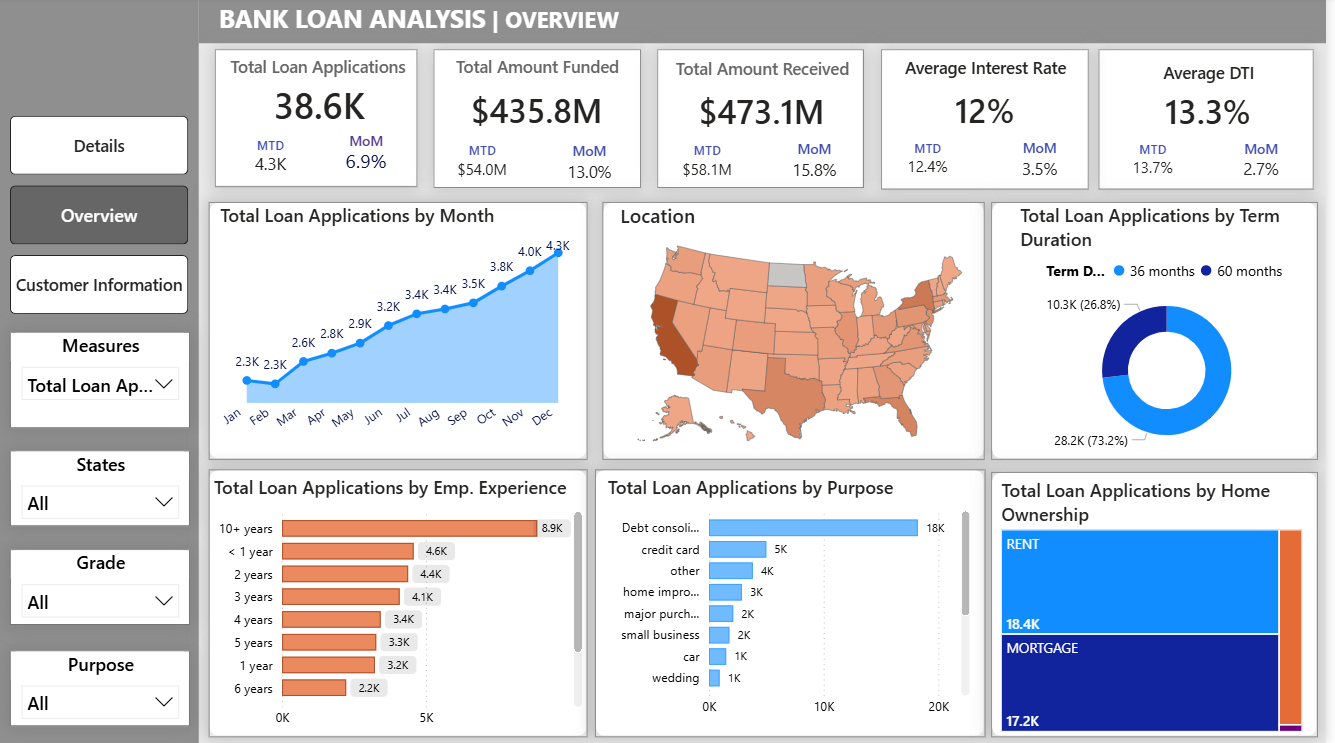

The dashboard page shown, as its layout file describes it:
{"tool":"powerbi","page":{"name":"Overview","canvas":[1280,720],"ordinal":1},"visuals":[{"type":"shape","box":[191.8,0,1088.2,44.6],"z":0},{"type":"textbox","box":[216,50.7,181.8,35.8],"z":0,"group":"g1"},{"type":"textbox","box":[423,50.7,190.6,38.1],"z":0,"group":"g2"},{"type":"textbox","box":[851.2,51.9,199,37],"z":0,"group":"g4"},{"type":"textbox","box":[640.1,53.1,190.6,37],"z":0,"group":"g3"},{"type":"textbox","box":[1069.6,56.7,193,35.3],"z":0,"group":"g5"},{"type":"shape","box":[0,0,191.8,720.2],"z":1000},{"type":"card","fields":{"Values":["bank_loan_data.Total Loan Applications"]},"box":[230.1,81.4,156,46.8],"z":1000,"group":"g1"},{"type":"card","fields":{"Values":["bank_loan_data.Total Amount Funded"]},"box":[422.3,82.5,191.8,54.7],"z":1000,"group":"g2"},{"type":"card","fields":{"Values":["_Measures.Average Interest Rate"]},"box":[850.5,82.7,200.3,53.1],"z":1000,"group":"g4"},{"type":"card","fields":{"Values":["_Measures.Total Amount Received"]},"box":[639.4,84,191.8,53.1],"z":1000,"group":"g3"},{"type":"card","fields":{"Values":["_Measures.Average DTI"]},"box":[1068.9,86.1,194.3,50.7],"z":1000,"group":"g5"},{"type":"card","title":"MTD","fields":{"Values":["bank_loan_data.MTD Loan Applications"]},"box":[232,135.7,59.2,39.3],"z":2000,"group":"g1"},{"type":"card","title":"MTD","fields":{"Values":["_Measures.MTD Interest Rate"]},"box":[858.8,138.2,73.1,39.8],"z":2000,"group":"g4"},{"type":"card","title":"MTD","fields":{"Values":["_Measures.MTD Average DTI"]},"box":[1076.9,139.1,70.9,38],"z":2000,"group":"g5"},{"type":"card","title":"MTD","fields":{"Values":["_Measures.MTD Total Amount Received"]},"box":[647.3,139.4,70,39.8],"z":2000,"group":"g3"},{"type":"card","title":"MTD","fields":{"Values":["_Measures.MTD Total Amount Funded"]},"box":[430.2,139.6,70,41],"z":2000,"group":"g2"},{"type":"shape","box":[201.5,197.9,365.6,248.5],"z":2000},{"type":"shape","box":[1060.5,50.7,207.5,135.1],"z":3000},{"type":"card","title":"MoM","fields":{"Values":["bank_loan_data.MoM Loan Applications"]},"box":[323.7,129.2,60.3,43.4],"z":3000,"group":"g1"},{"type":"card","title":"MoM","fields":{"Values":["_Measures.MoM Average Interest Rate"]},"box":[967.1,136.8,71.8,45.1],"z":3000,"group":"g4"},{"type":"card","title":"MoM","fields":{"Values":["_Measures.MoM Average DTI"]},"box":[1182,137.8,69.6,43.1],"z":3000,"group":"g5"},{"type":"card","title":"MoM","fields":{"Values":["_Measures.MoM Total Amount Received"]},"box":[751.1,138.1,68.8,45.2],"z":3000,"group":"g3"},{"type":"card","title":"MoM","fields":{"Values":["_Measures.MoM Total Amount Funded"]},"box":[534,138.2,68.8,46.5],"z":3000,"group":"g2"},{"type":"shape","box":[207.5,50.7,195.4,132.7],"z":4000},{"type":"shape","box":[418.6,50.7,200.3,133.9],"z":5000},{"type":"textbox","box":[206.3,0,417.4,44.6],"z":6000},{"type":"group","id":"g1","title":"Group 1","box":[216,50.7,182.2,124.3],"z":7000},{"type":"group","id":"g2","title":"Group 1","box":[422.3,50.7,193,133.9],"z":8000},{"type":"shape","box":[634.6,50.7,199.1,133.9],"z":9000},{"type":"group","id":"g3","title":"Group 1","box":[639.4,53.1,191.8,131.5],"z":10000},{"type":"shape","box":[850.5,50.7,200.3,135.1],"z":11000},{"type":"group","id":"g4","title":"Group 1","box":[850.5,51.9,200.3,132.7],"z":12000},{"type":"group","id":"g5","title":"Group 1","box":[1068.9,56.7,193,125.5],"z":13000},{"type":"shape","box":[581.5,197.9,369.2,248.5],"z":14000},{"type":"slicer","title":"States","fields":{"Values":["bank_loan_data.address_state"]},"box":[9.7,437.9,173.9,73.1],"z":14000,"group":"g6"},{"type":"areaChart","fields":{"Y":["_Measures.Total Loan Applications"],"Category":["Date Table.Month Short"]},"box":[207.5,199.1,347.5,238.9],"z":15000},{"type":"slicer","title":"Grade","fields":{"Values":["bank_loan_data.grade"]},"box":[9.7,533.7,173.9,73.1],"z":15000,"group":"g6"},{"type":"slicer","title":"Measures","fields":{"Values":["Comparison Parameter.Comparison Parameter"]},"box":[9.7,323.3,173.7,92.9],"z":16000},{"type":"slicer","title":"Purpose","fields":{"Values":["bank_loan_data.purpose"]},"box":[9.7,630.7,173.9,73.1],"z":16000,"group":"g6"},{"type":"shapeMap","fields":{"Category":["bank_loan_data.address_state"]},"box":[593.6,197.9,357.1,248.5],"z":17000},{"type":"shape","box":[956.7,197.9,314.9,248.5],"z":18000},{"type":"donutChart","fields":{"Y":["_Measures.Total Loan Applications"],"Category":["bank_loan_data.term"]},"box":[979.6,199.1,293.2,248.5],"z":19000},{"type":"shape","box":[201.5,456,365.6,258.2],"z":20000},{"type":"barChart","fields":{"Y":["_Measures.Total Loan Applications"],"Category":["bank_loan_data.emp_length"]},"box":[201.5,460.9,365.6,253.4],"z":21000},{"type":"shape","box":[574.3,456,376.4,258.2],"z":22000},{"type":"barChart","fields":{"Y":["_Measures.Total Loan Applications"],"Category":["bank_loan_data.purpose"]},"box":[581.5,460.9,359.5,242.5],"z":23000},{"type":"shape","box":[956.7,458.4,314.9,255.8],"z":24000},{"type":"treemap","fields":{"Values":["_Measures.Total Loan Applications"],"Group":["bank_loan_data.home_ownership"]},"box":[961.5,464.5,300.4,249.7],"z":25000},{"type":"group","id":"g6","title":"Group 2","box":[9.7,437.9,173.7,265.4],"z":26000},{"type":"pageNavigator","box":[9.7,114.6,172.5,191.8],"z":27000}]}

Visuals, with their boxes in screenshot pixels (x1, y1, x2, y2), scaled from the page's 1280x720 canvas onto the 1335x743 screenshot:
shape: [200,0,1334,46]
textbox: [225,52,415,89]
textbox: [441,52,640,92]
textbox: [888,54,1095,92]
textbox: [668,55,866,93]
textbox: [1116,59,1317,95]
shape: [0,0,200,742]
card - bank_loan_data.Total Loan Applications: [240,84,403,132]
card - bank_loan_data.Total Amount Funded: [440,85,640,142]
card - _Measures.Average Interest Rate: [887,85,1096,140]
card - _Measures.Total Amount Received: [667,87,867,141]
card - _Measures.Average DTI: [1115,89,1317,141]
"MTD" card: [242,140,304,181]
"MTD" card: [896,143,972,184]
"MTD" card: [1123,144,1197,183]
"MTD" card: [675,144,748,185]
"MTD" card: [449,144,522,186]
shape: [210,204,591,461]
shape: [1106,52,1322,192]
"MoM" card: [338,133,400,178]
"MoM" card: [1009,141,1084,188]
"MoM" card: [1233,142,1305,187]
"MoM" card: [783,143,855,189]
"MoM" card: [557,143,629,191]
shape: [216,52,420,189]
shape: [437,52,645,190]
textbox: [215,0,650,46]
"Group 1" group: [225,52,415,181]
"Group 1" group: [440,52,642,190]
shape: [662,52,870,190]
"Group 1" group: [667,55,867,190]
shape: [887,52,1096,192]
"Group 1" group: [887,54,1096,190]
"Group 1" group: [1115,59,1316,188]
shape: [606,204,992,461]
"States" slicer: [10,452,191,527]
areaChart - _Measures.Total Loan Applications x Date Table.Month Short: [216,205,579,452]
"Grade" slicer: [10,551,191,626]
"Measures" slicer: [10,334,191,429]
"Purpose" slicer: [10,651,191,726]
shapeMap - bank_loan_data.address_state: [619,204,992,461]
shape: [998,204,1326,461]
donutChart - _Measures.Total Loan Applications x bank_loan_data.term: [1022,205,1327,462]
shape: [210,471,591,737]
barChart - _Measures.Total Loan Applications x bank_loan_data.emp_length: [210,476,591,737]
shape: [599,471,992,737]
barChart - _Measures.Total Loan Applications x bank_loan_data.purpose: [606,476,981,726]
shape: [998,473,1326,737]
treemap - _Measures.Total Loan Applications x bank_loan_data.home_ownership: [1003,479,1316,737]
"Group 2" group: [10,452,191,726]
pageNavigator: [10,118,190,316]
